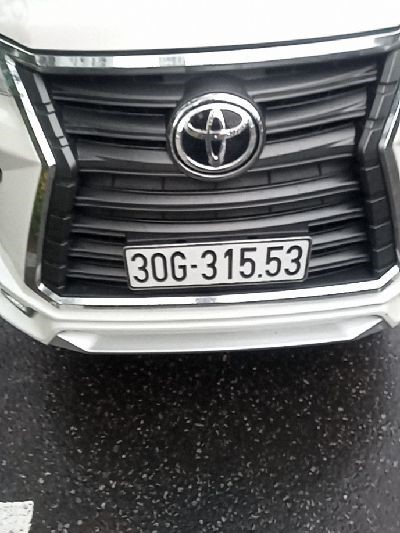number_plate: (88, 226, 315, 309)
